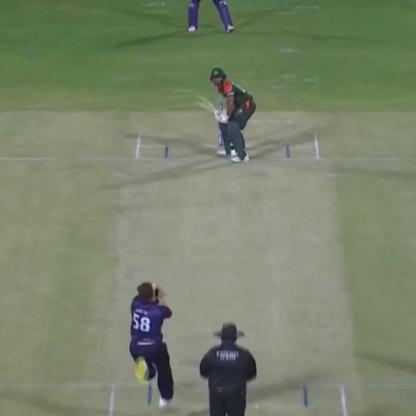bat: (192, 89, 226, 125)
pitch: (108, 122, 357, 416)
